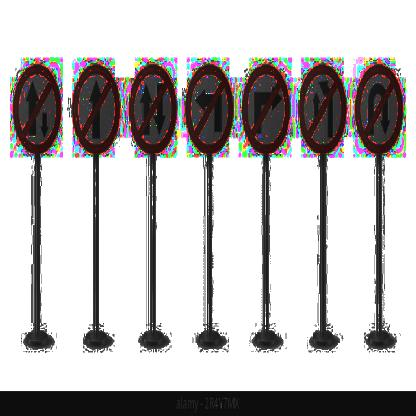No U-turn: (355, 58, 405, 162)
